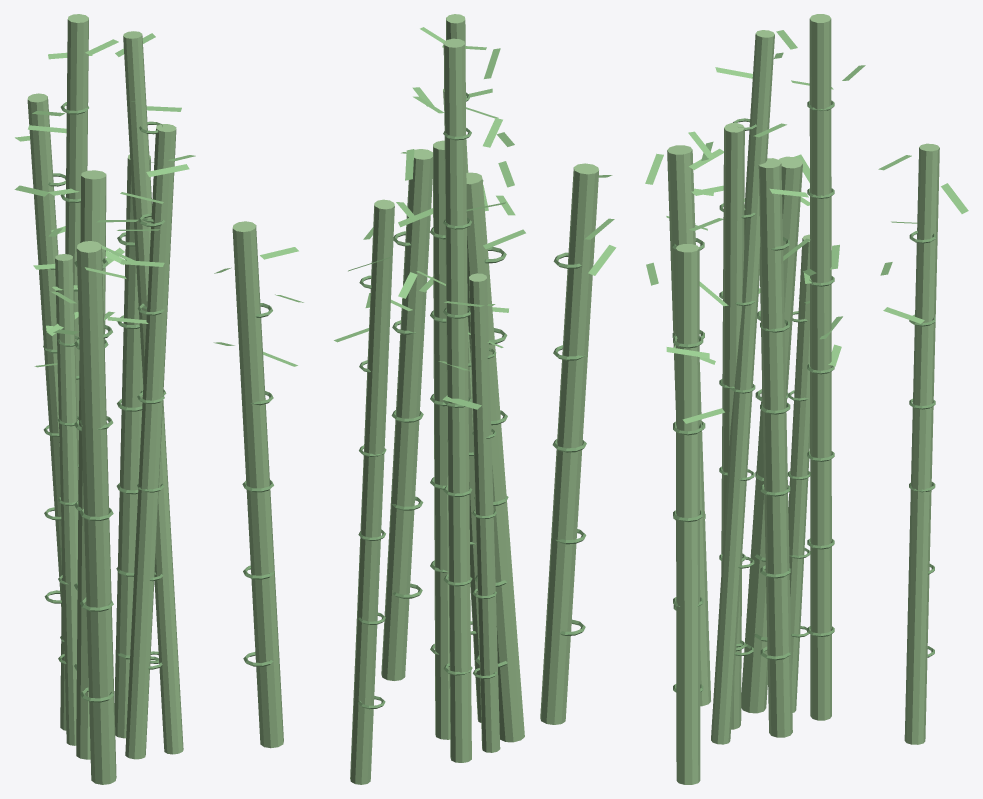
File: bamboo_grove.glb
The picture shows the model from 3 angles, left to right: view 1: azimuth 30°, elevation 25°; view 2: azimuth 150°, elevation 25°; view 3: azimuth 270°, elevation 25°; orthographic projection.
Visible parts, largest first — view 1: bamboo_grove; view 2: bamboo_grove; view 3: bamboo_grove.
Part boxes in pixels (x1,y1,x2,y2): bamboo_grove: (14,14,303,784); bamboo_grove: (334,14,616,784); bamboo_grove: (645,14,968,784).
Bounding box in the file's own units: 1.36 × 3.89 × 1.63.
